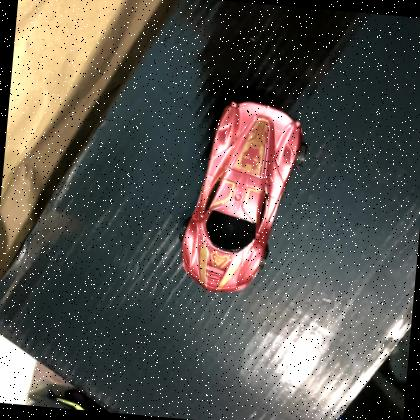Car: (172, 94, 311, 301)
